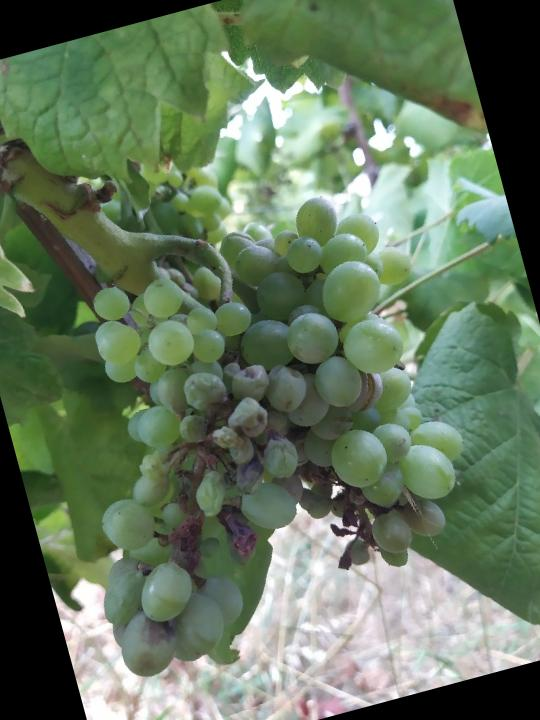grape: (10, 172, 506, 688)
